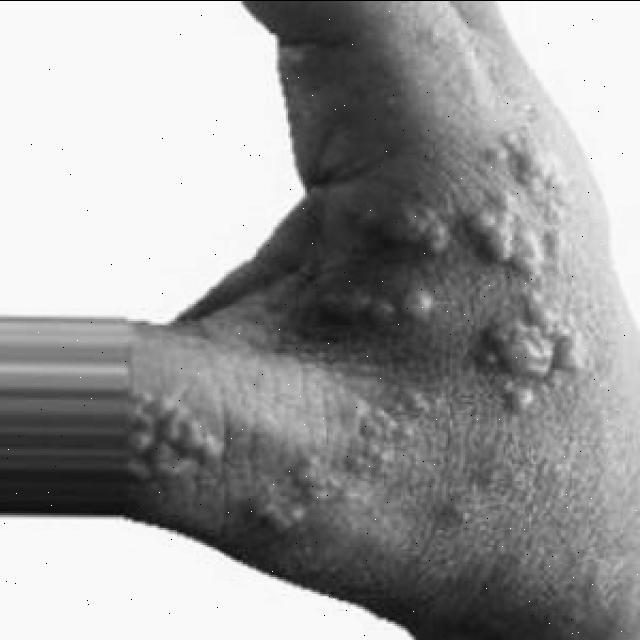Shingles: (459, 125, 593, 417), (246, 393, 433, 533), (128, 380, 224, 485), (353, 187, 442, 259), (316, 284, 440, 332)
